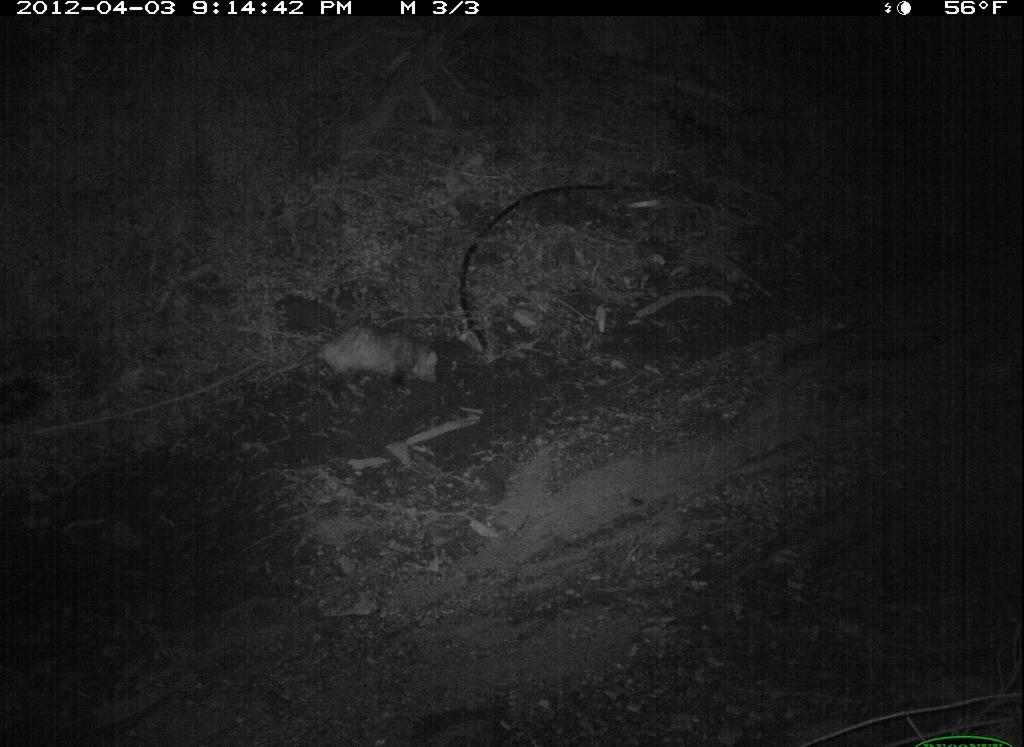opossum: (281, 315, 456, 409)
